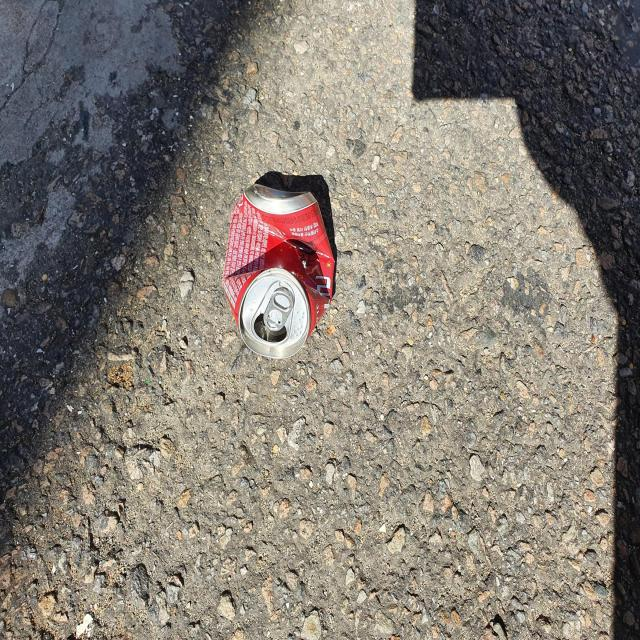can: (222, 179, 335, 358)
